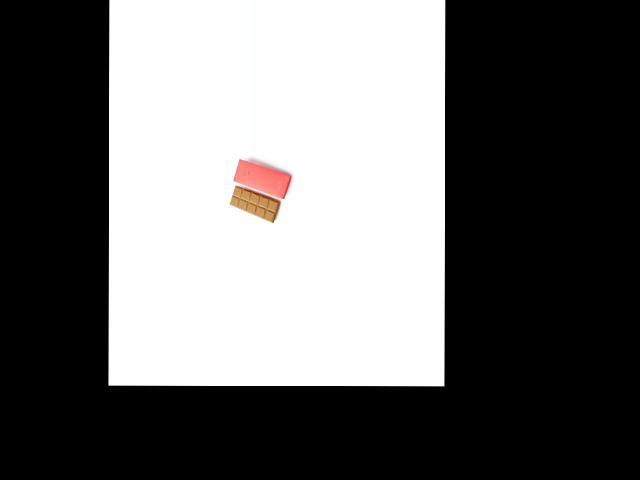chocolate: (228, 182, 282, 222)
